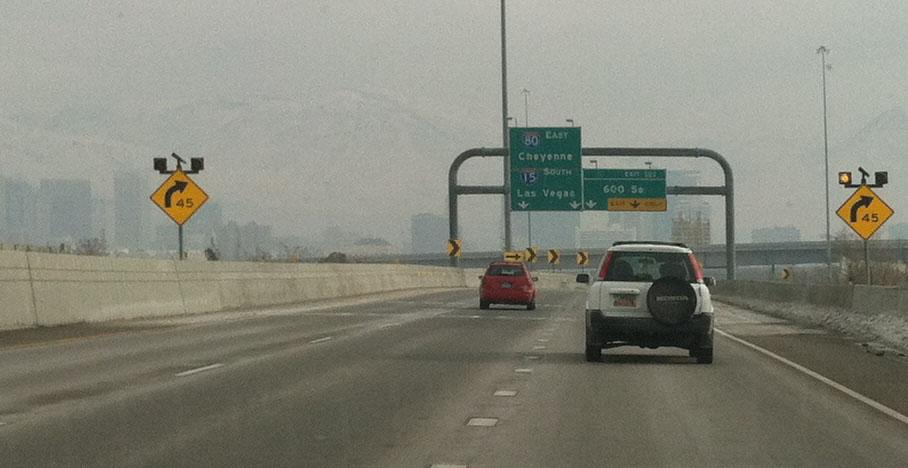car: (576, 242, 715, 363), (478, 261, 539, 310)
